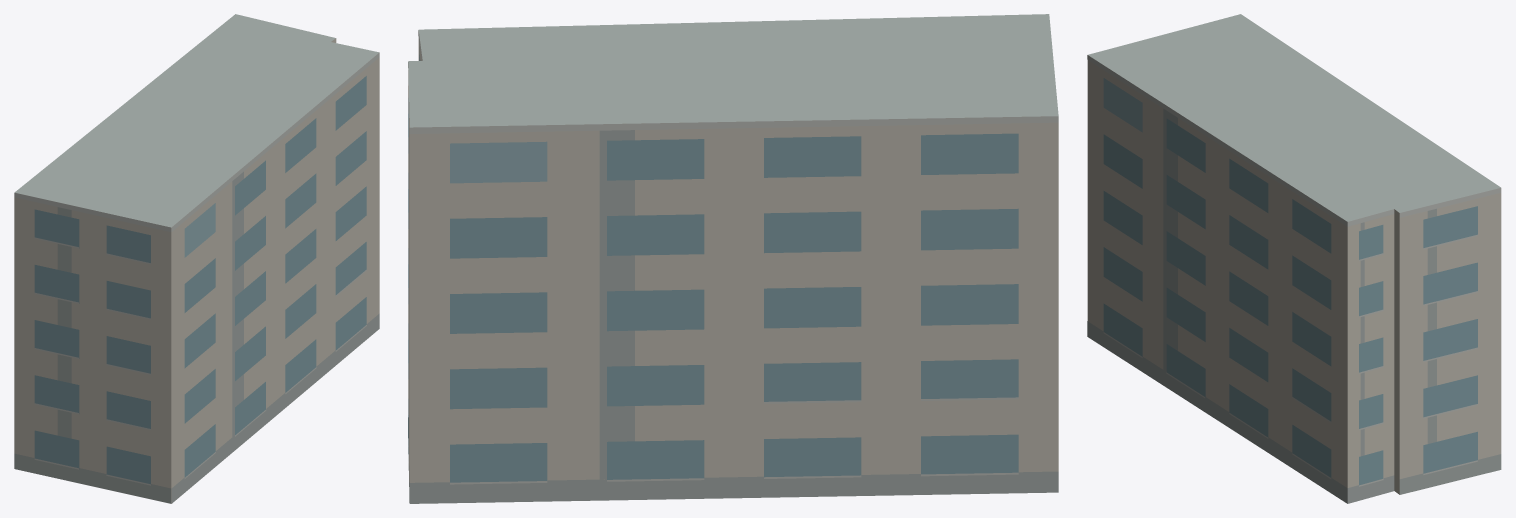
The model's file is survey-upis-32885281.glb.
3 renders of one model, left to right at view 1: azimuth 30°, elevation 25°; view 2: azimuth 150°, elevation 25°; view 3: azimuth 270°, elevation 25°, orthographic. The views are drawn at different scales.
Visible parts, largest first — view 1: survey-upis-32885281.tmp; view 2: survey-upis-32885281.tmp; view 3: survey-upis-32885281.tmp.
Boxes of the visible parts, box(x1,y1,x2,y2) form: survey-upis-32885281.tmp: box(14, 14, 379, 503); survey-upis-32885281.tmp: box(408, 14, 1058, 503); survey-upis-32885281.tmp: box(1087, 14, 1501, 503).
Size of the model in its own units: 22.31 by 14.1 by 18.76.
